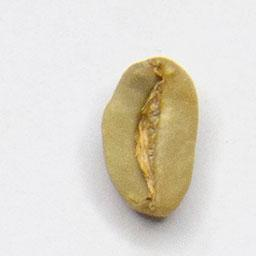longberry: (97, 53, 200, 221)
